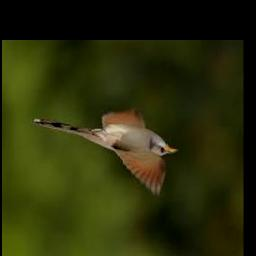Cuckoo: (33, 113, 178, 194)
